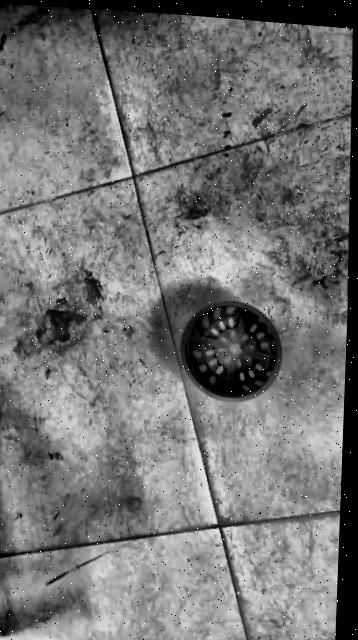pot: (177, 298, 286, 406)
